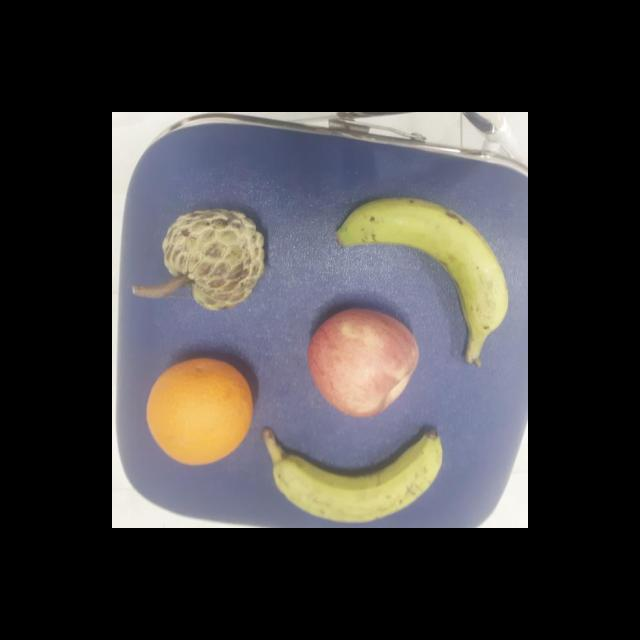Sakya fruit: (161, 200, 272, 310)
apple: (304, 306, 426, 420)
banana: (335, 198, 509, 364), (264, 426, 448, 525)
orange: (144, 357, 254, 466)
